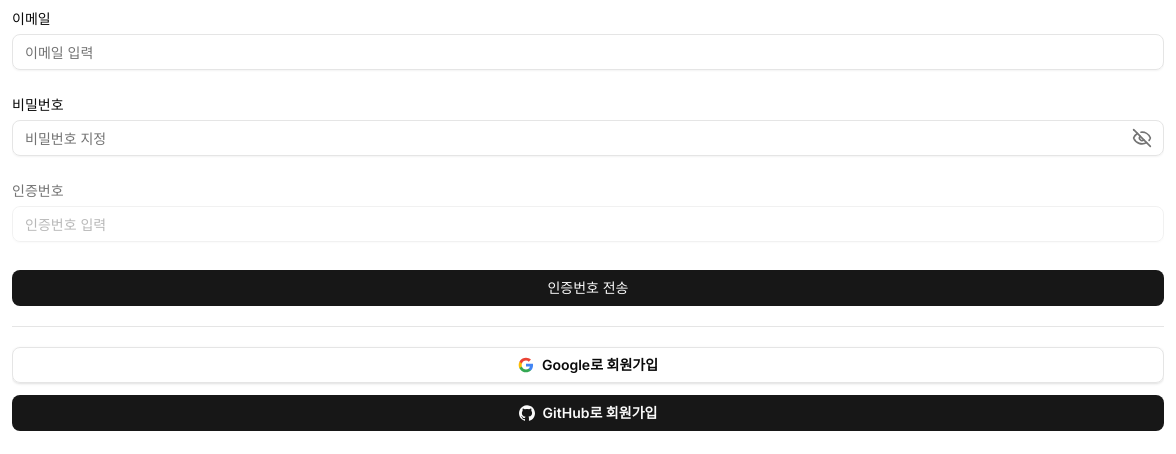
Test: RegisterStep1Form › 인증번호 전송 버튼 클릭 후 다음 버튼을 렌더링한다
The width and height of the screenshot is (1176, 454).
Click the button "인증번호 전송".
click(588, 288)  # box [12,270,1164,306]
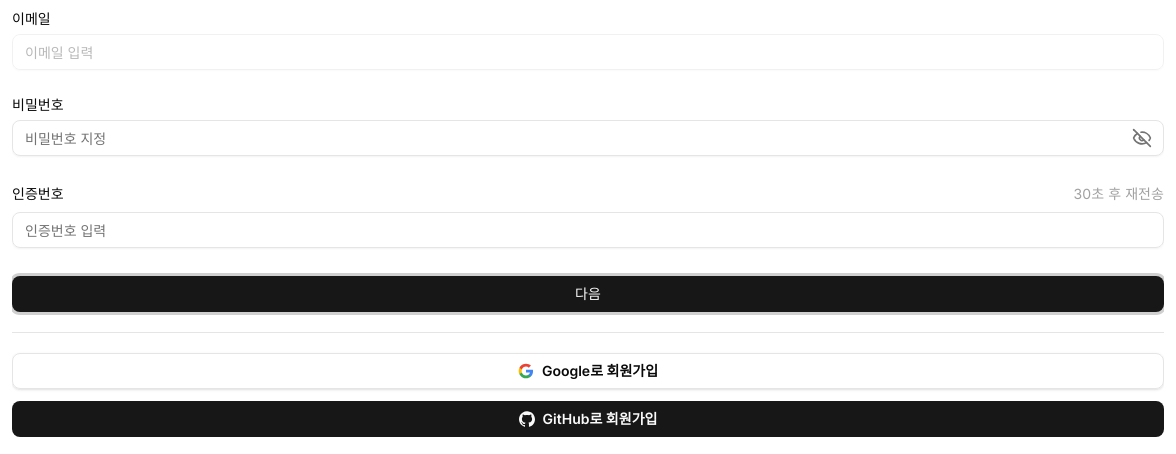
Now the button "다음" is shown, box [12,276,1164,312]
